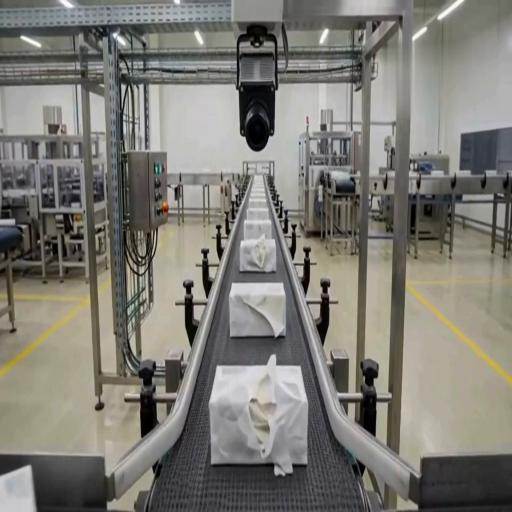defective: (209, 358, 307, 471), (228, 282, 287, 338), (238, 237, 277, 274)
good: (0, 464, 37, 511), (243, 219, 272, 240), (247, 207, 269, 223)
